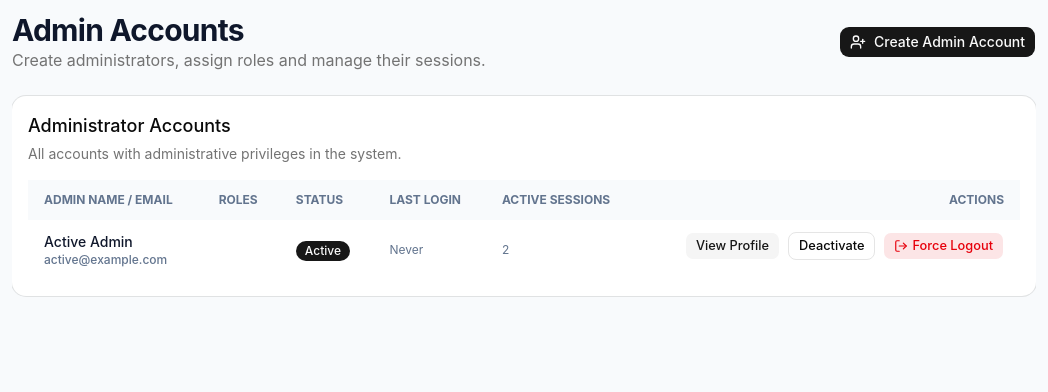
Test case: Admin Accounts controls › renders a mutation failure without losing the account table
Click the button "Deactivate".
click(832, 246)  # box [788,232,876,260]
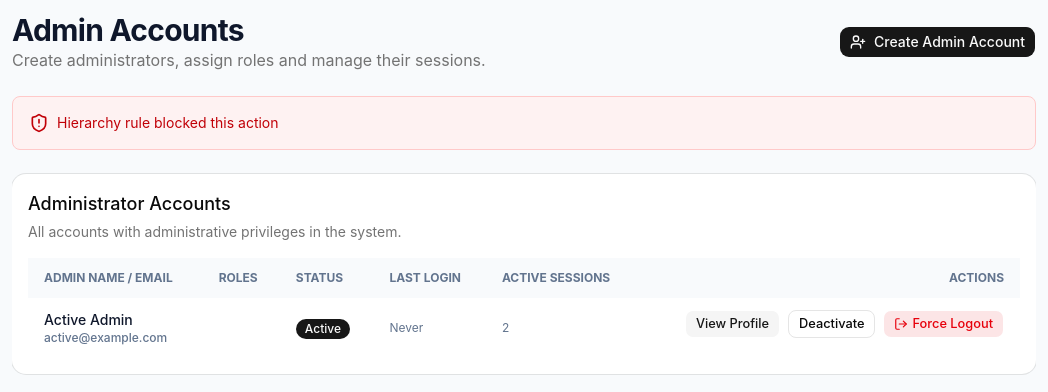
Expected: the text "active@example.com" is shown, [44,330,187,346]
Now the text "Hierarchy rule blocked this action" is shown, box [12,96,1036,150]
